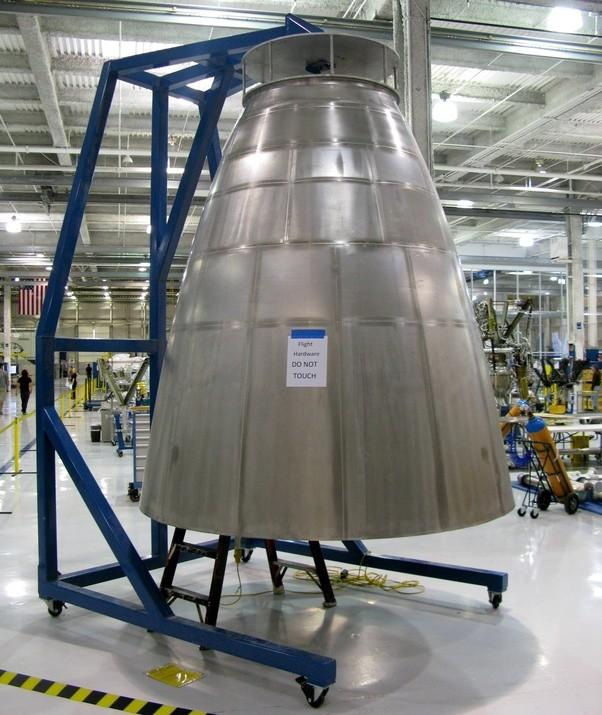thruster: (136, 75, 521, 543)
